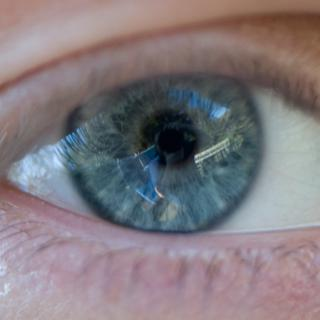iris: (66, 37, 268, 238)
